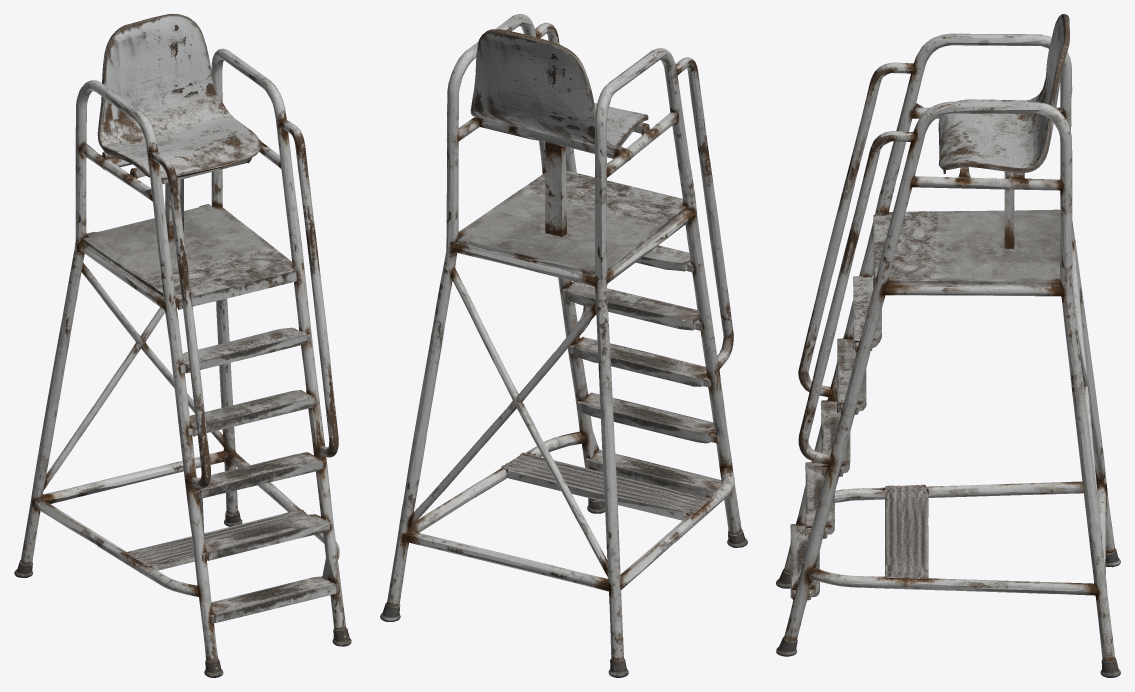
Rendered from sedia_bagnino_meshy.glb.
3 views of the same model, side by side, from view 1: azimuth 30°, elevation 25°; view 2: azimuth 150°, elevation 25°; view 3: azimuth 270°, elevation 25° (orthographic). The views are drawn at different scales.
Visible parts, largest first — view 1: Mesh_0; view 2: Mesh_0; view 3: Mesh_0.
Part boxes in pixels (box(x1,y1,x2,y2)): Mesh_0: box(14, 14, 351, 677); Mesh_0: box(380, 14, 747, 677); Mesh_0: box(776, 14, 1120, 677).
Size of the model in its own units: 0.8229 by 1.9 by 1.01.
Materials: 1 (1 with a texture image).
